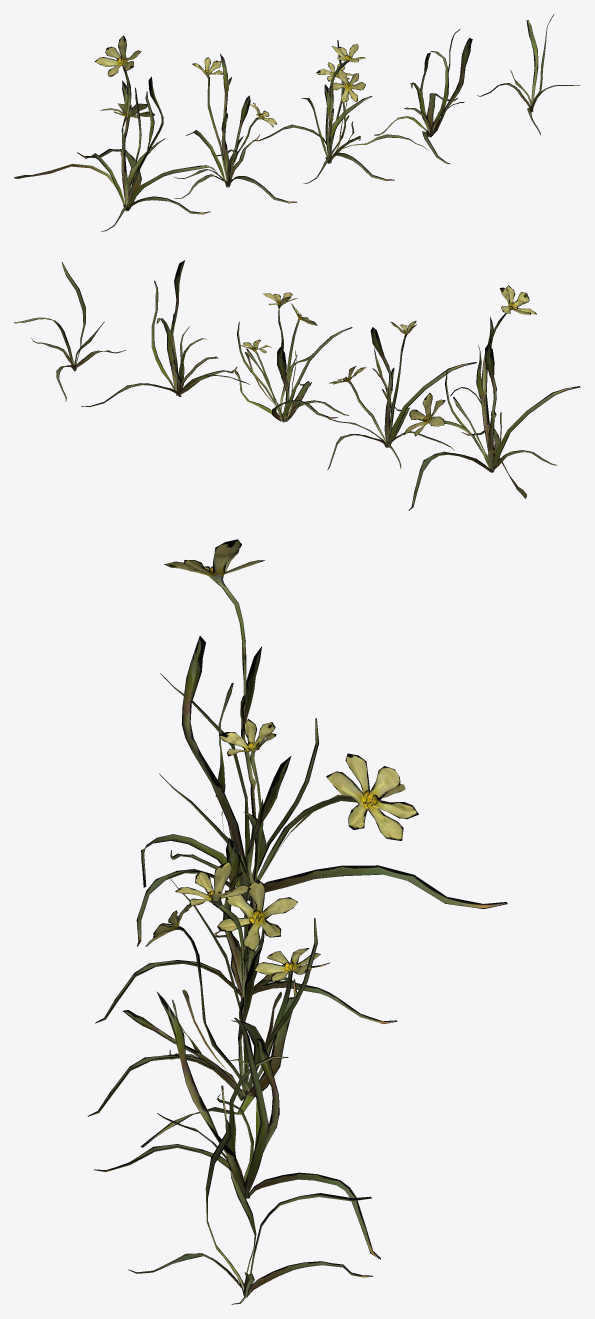
Rendered from veg_flower_empodium.glb.
3 renders of one model, top to bottom at view 1: azimuth 30°, elevation 25°; view 2: azimuth 150°, elevation 25°; view 3: azimuth 270°, elevation 25°, orthographic. The views are drawn at different scales.
Visible parts, largest first — view 1: flower_empodium_a_LOD0, flower_empodium_c_LOD0, flower_empodium_b_LOD0, flower_empodium_d_LOD0, flower_empodium_e_LOD0; view 2: flower_empodium_a_LOD0, flower_empodium_c_LOD0, flower_empodium_b_LOD0, flower_empodium_d_LOD0, flower_empodium_e_LOD0; view 3: flower_empodium_a_LOD0, flower_empodium_c_LOD0, flower_empodium_b_LOD0, flower_empodium_d_LOD0, flower_empodium_e_LOD0.
Part boxes in pixels (<box>): flower_empodium_a_LOD0: <box>14,35,217,231</box>; flower_empodium_c_LOD0: <box>252,40,428,183</box>; flower_empodium_b_LOD0: <box>173,53,297,203</box>; flower_empodium_d_LOD0: <box>374,29,472,164</box>; flower_empodium_e_LOD0: <box>477,14,580,135</box>; flower_empodium_a_LOD0: <box>404,285,580,510</box>; flower_empodium_c_LOD0: <box>234,292,352,422</box>; flower_empodium_b_LOD0: <box>324,321,476,469</box>; flower_empodium_d_LOD0: <box>81,260,249,407</box>; flower_empodium_e_LOD0: <box>14,262,125,401</box>; flower_empodium_a_LOD0: <box>136,539,507,946</box>; flower_empodium_c_LOD0: <box>87,861,320,1147</box>; flower_empodium_b_LOD0: <box>95,719,397,1023</box>; flower_empodium_d_LOD0: <box>94,992,380,1259</box>; flower_empodium_e_LOD0: <box>128,1119,372,1304</box>.
Bounding box in the file's own units: 1.47 × 0.483 × 0.5114.
Materials: 1 (1 with a texture image).
